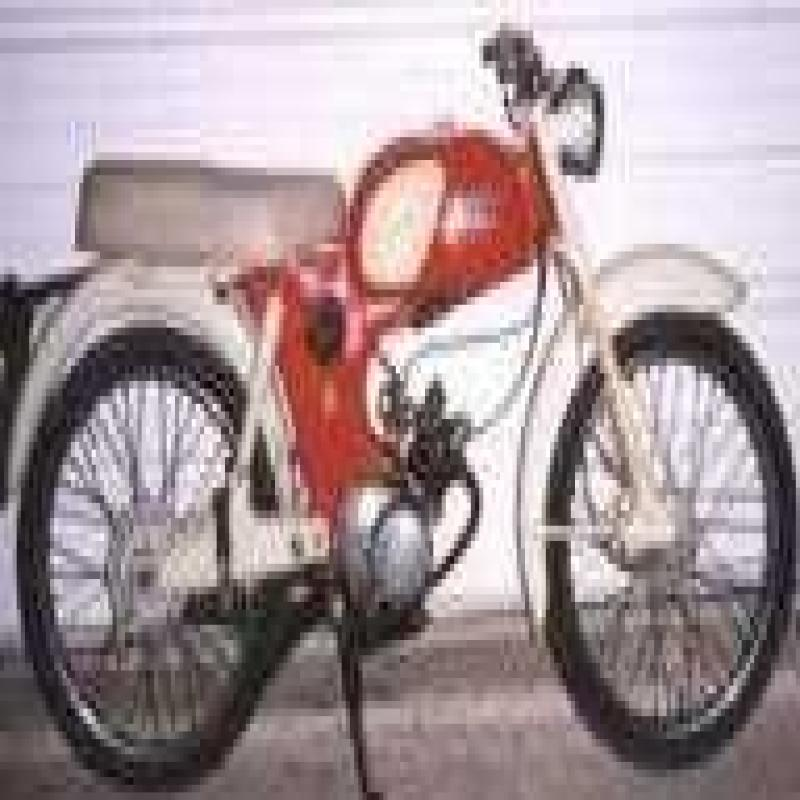bike: (1, 10, 800, 800)
